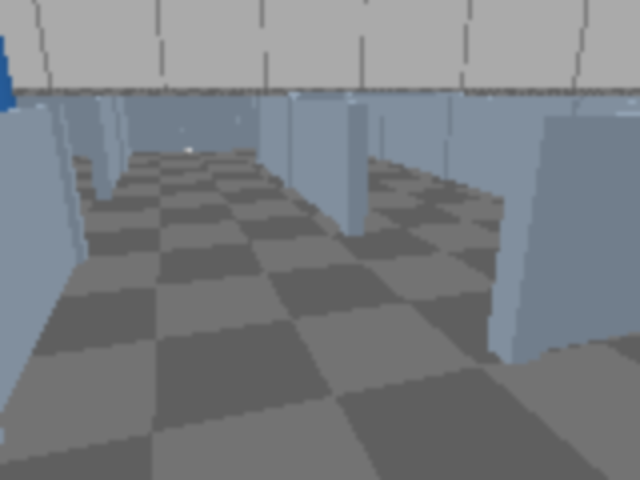person: (0, 0, 38, 258)
